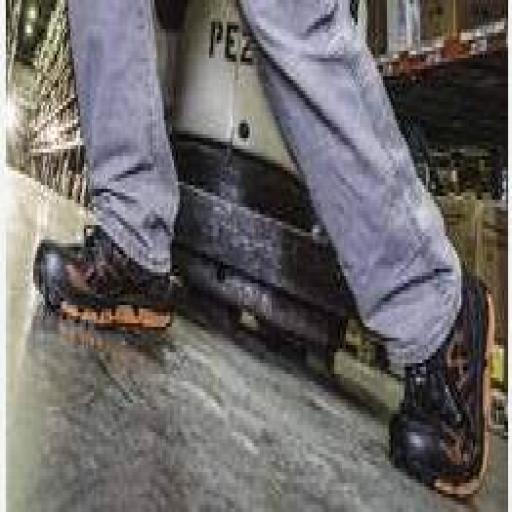safety_boots: (24, 232, 193, 350), (380, 351, 493, 496)
